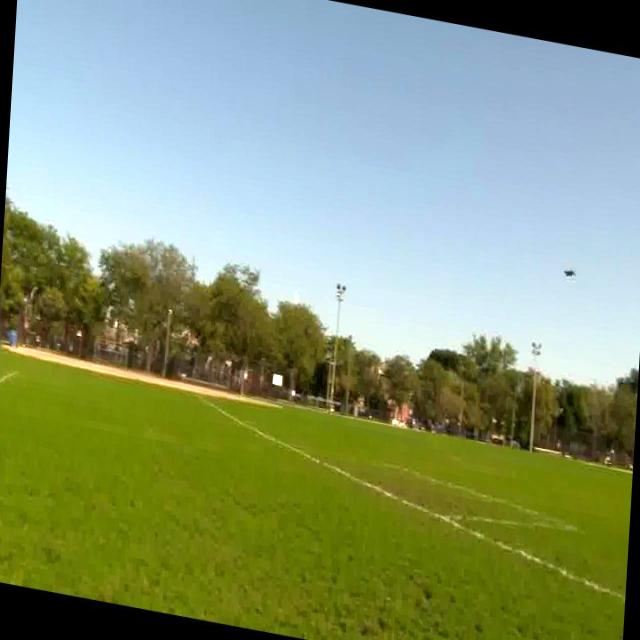drone: (560, 260, 578, 289)
